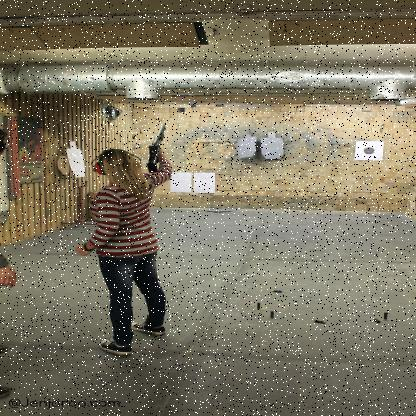pistol: (146, 123, 170, 172)
